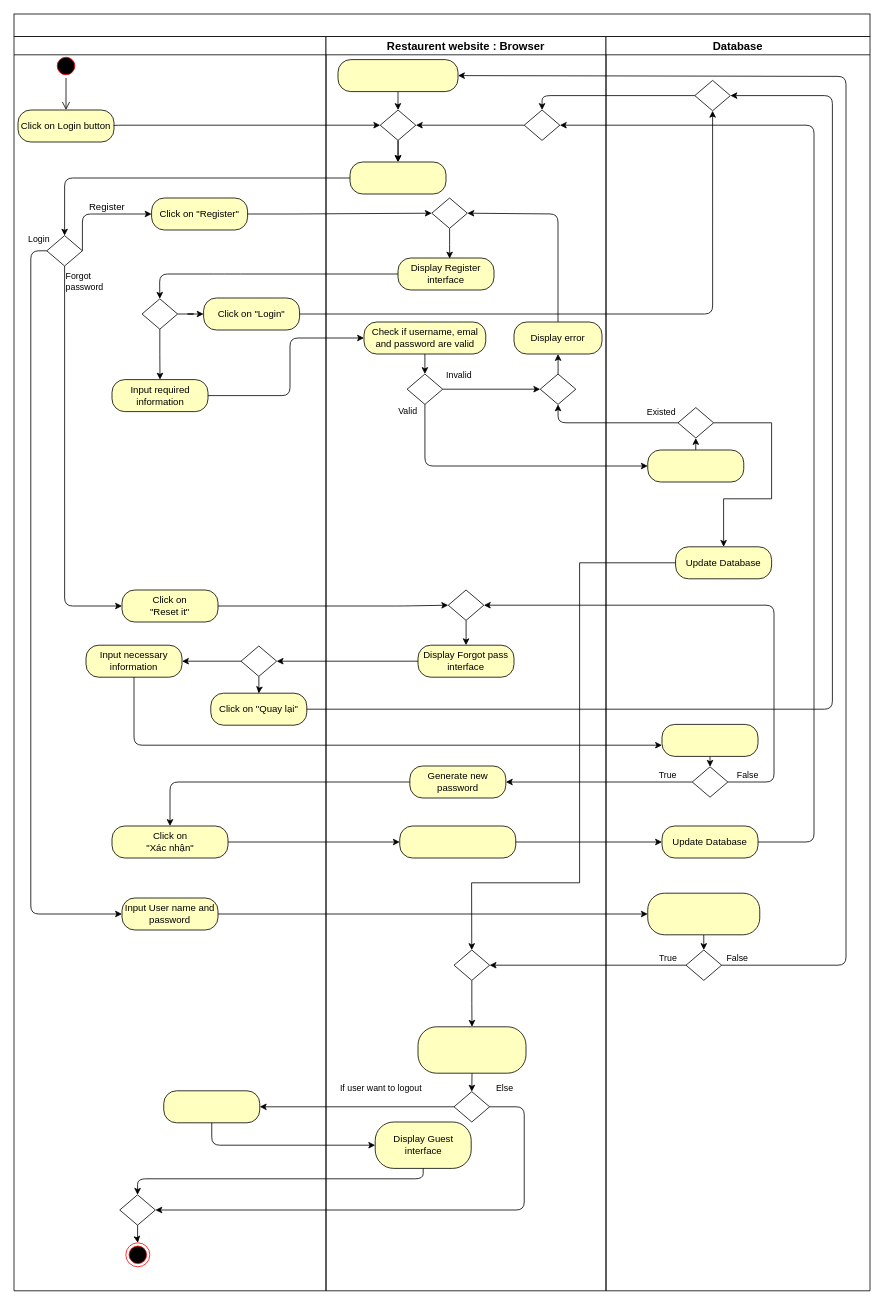
Some shapes in this 884 by 1305 pixel diagram are drawn without their labels. The box of each missing label's shape, as (x1, y1, x2, y2) in pixels:
Check if username or email is existed: (647, 449, 744, 482)
Click on Logout button: (163, 1090, 260, 1123)
Customer: (13, 36, 326, 1291)
Display Login interface: (349, 161, 446, 194)
Display Member interface: (417, 1026, 526, 1073)
Display reset password success: (399, 825, 516, 858)
Display Wrong User name or Password: (337, 59, 458, 92)
Login, Logout, Register: (13, 13, 870, 36)
Verify email and User name: (661, 724, 758, 756)
Verify User name and password: (647, 892, 760, 935)
